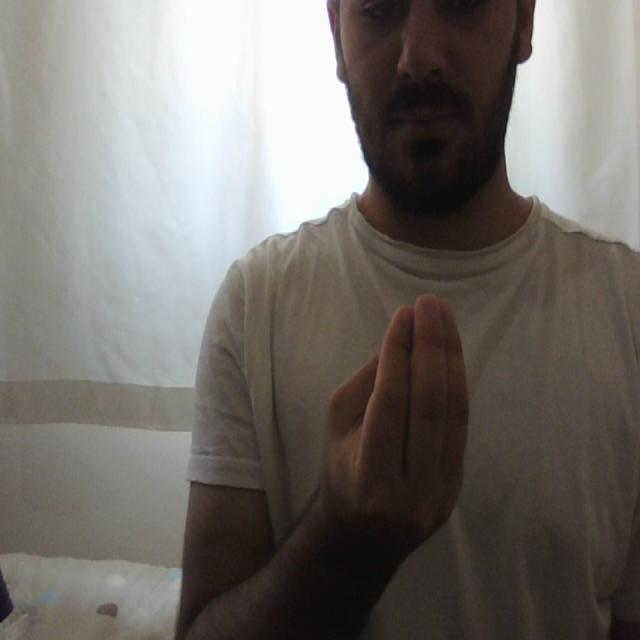iyi: (315, 290, 471, 532)
